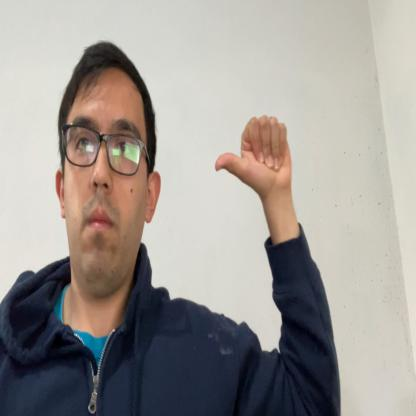A: (214, 114, 292, 197)
